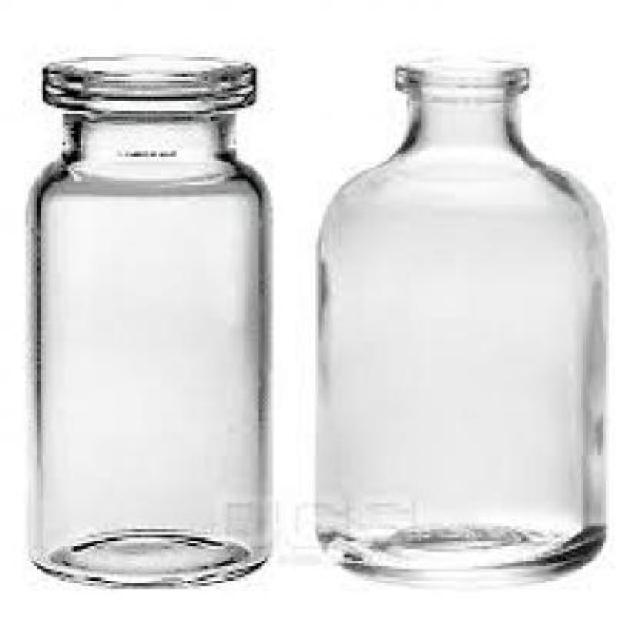kaca: (315, 57, 603, 577), (23, 57, 271, 586)
